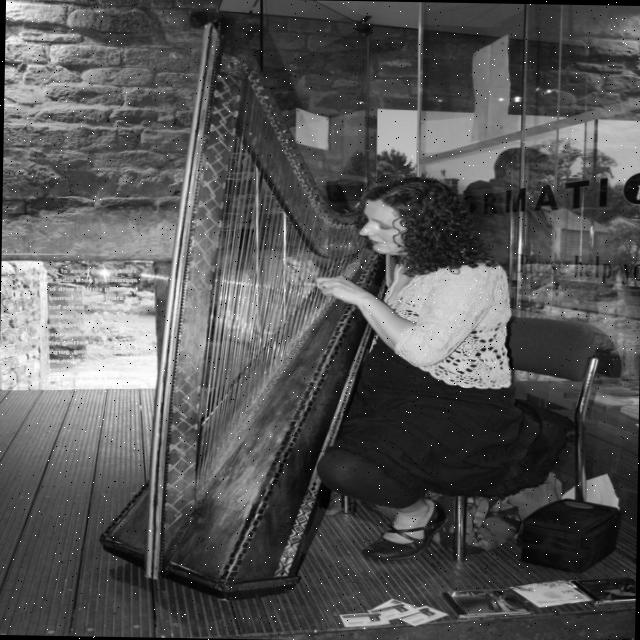harp: (96, 16, 394, 604)
